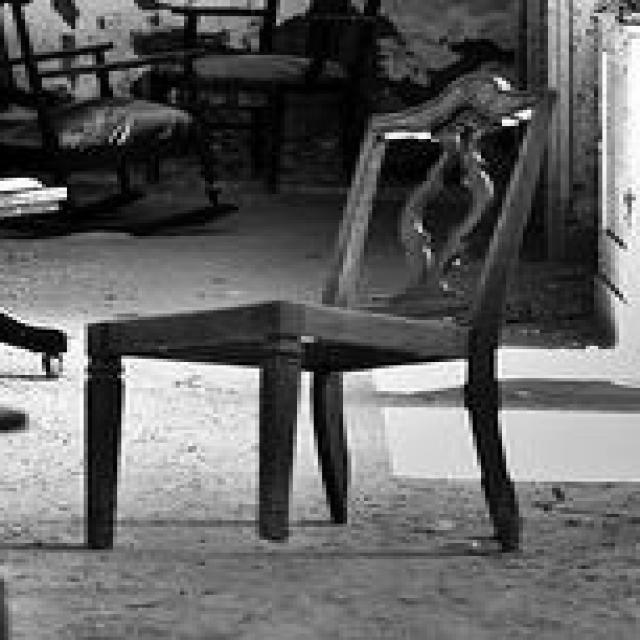chair: (81, 62, 564, 556)
